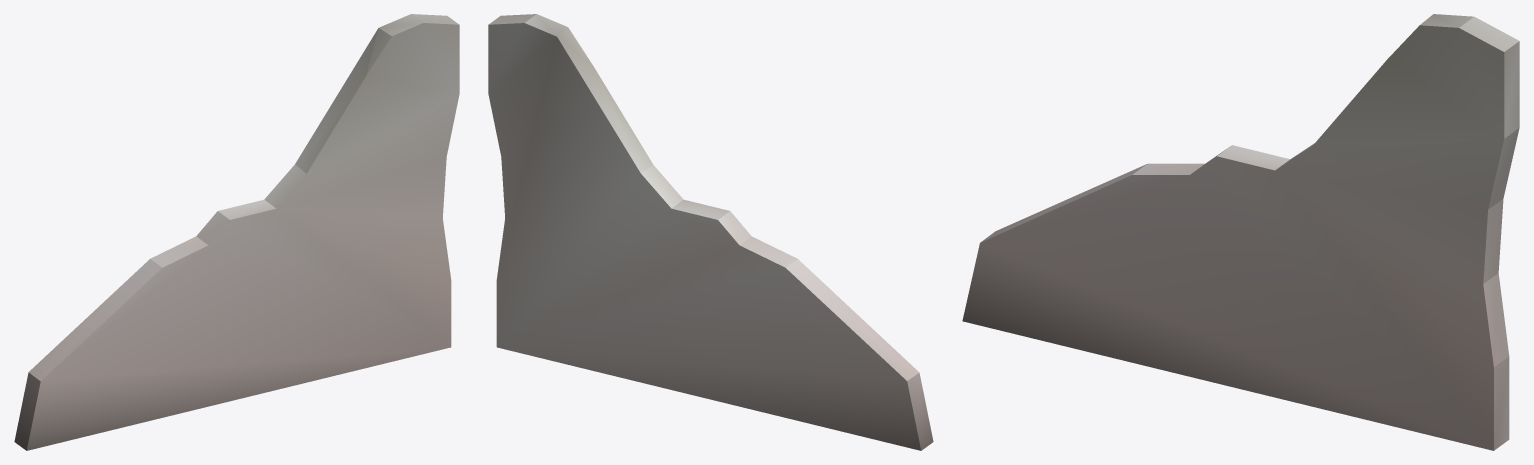
File: ruined_housewall_01_straight_4m_rise_a.dae
3 renders of one model, left to right at view 1: azimuth 30°, elevation 25°; view 2: azimuth 150°, elevation 25°; view 3: azimuth 330°, elevation 25°, orthographic. The views are drawn at different scales.
Visible parts, largest first — view 1: straight_4m_e8; view 2: straight_4m_e8; view 3: straight_4m_e8.
Boxes of the visible parts, box(x1,y1,x2,y2) form: straight_4m_e8: box(14, 14, 459, 450); straight_4m_e8: box(488, 14, 933, 450); straight_4m_e8: box(962, 14, 1519, 450).
Size of the model in its own units: 4.07 by 0.2 by 2.98.
